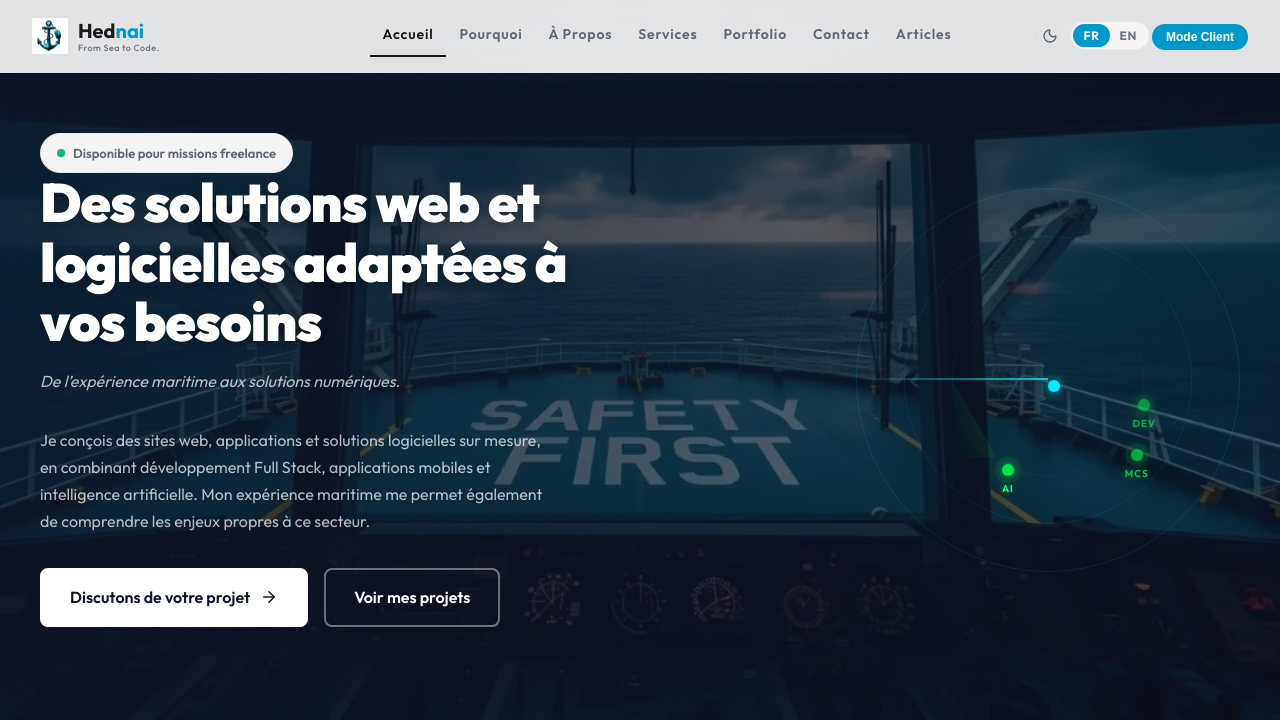
Test: Formulaire de contact › ouvre le modal de contact depuis le bouton hero
The width and height of the screenshot is (1280, 720).
Click the link with class "btn--primary" at (174,598), box x1=40 y1=568 x2=308 y2=627
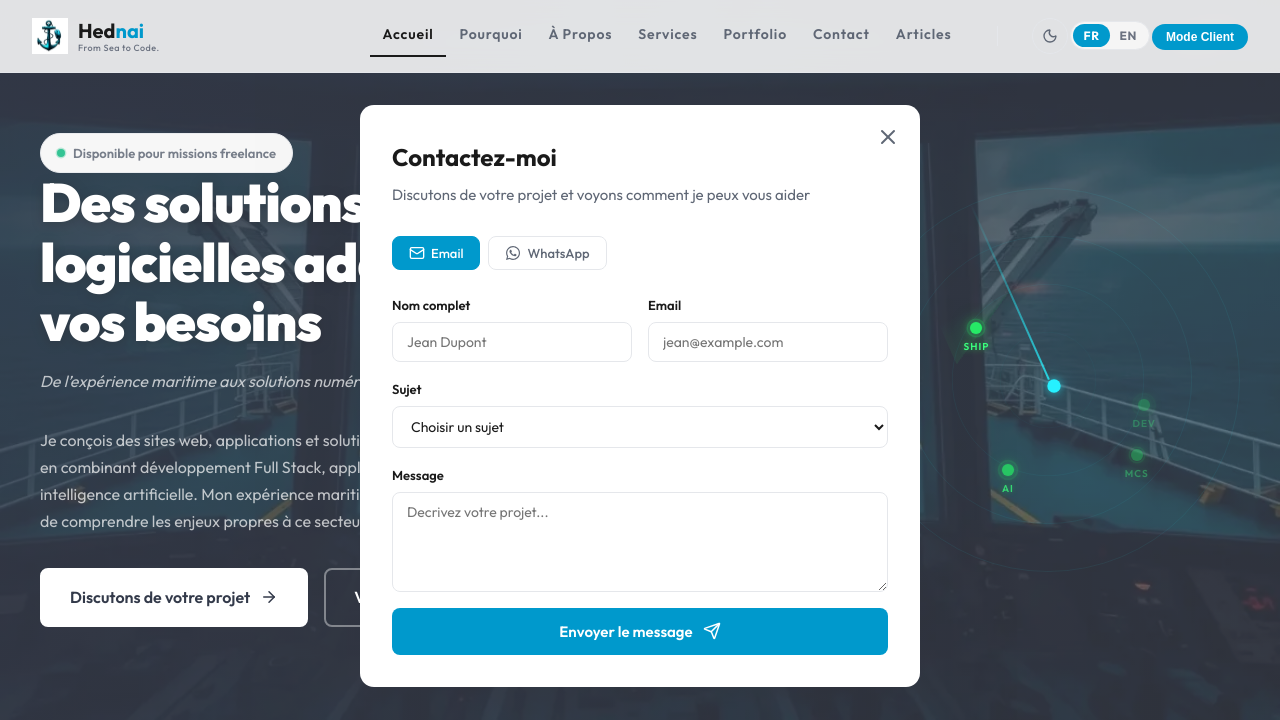
Result: the dialog with class "contact-modal__content" is shown at x1=360 y1=105 x2=920 y2=687
Result: the heading "Contactez-moi" is shown at x1=392 y1=142 x2=557 y2=172
